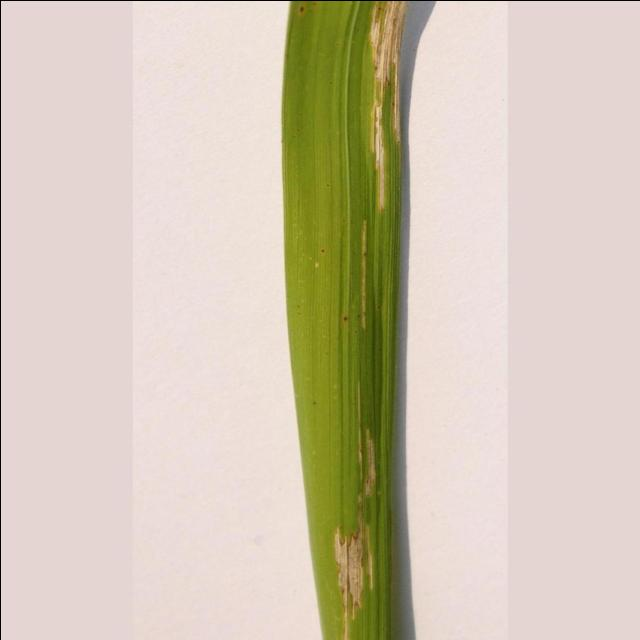Bacterial leaf blight: (321, 421, 396, 640), (358, 0, 420, 215)
